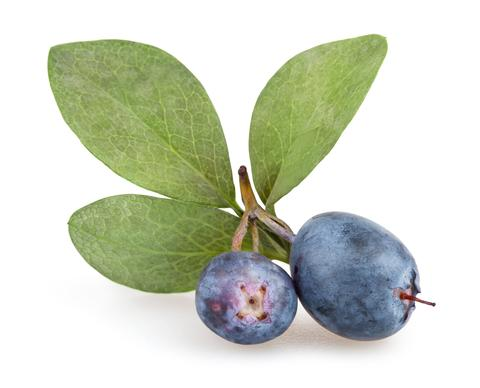Blueberry leaf: (42, 39, 241, 213), (248, 26, 398, 221), (58, 194, 209, 295)
